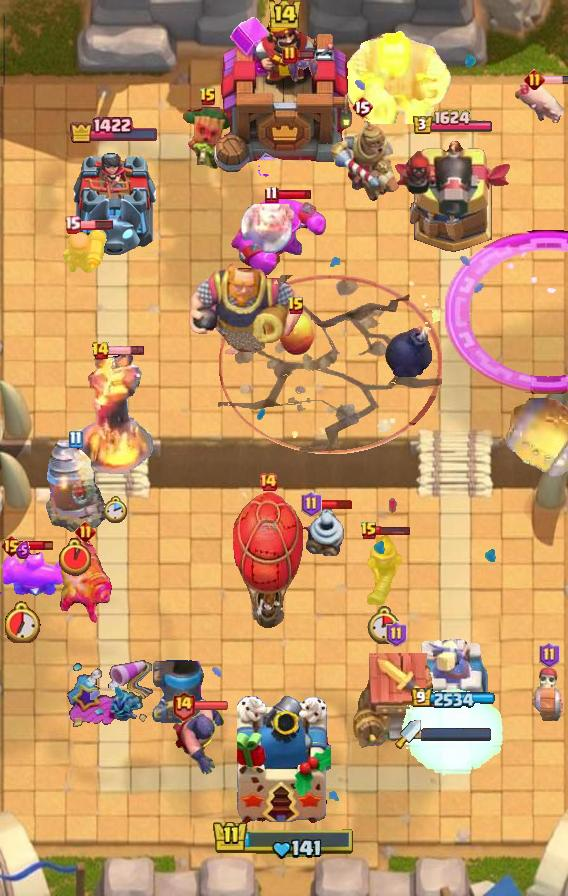baby-dragon: (384, 306, 444, 378)
bar: (416, 637, 490, 731)
barbarian-barrel: (284, 54, 322, 82)
bomb-tower: (362, 531, 404, 605)
cannon-cart: (232, 492, 304, 632)
clock: (212, 819, 356, 861)
clone: (229, 194, 331, 278)
dirt: (502, 390, 568, 482)
electro-dragon: (77, 350, 155, 478)
electro-spirit: (16, 541, 30, 559)
elixir: (5, 601, 41, 643), (367, 606, 400, 644), (59, 538, 91, 576), (104, 496, 128, 524)
emote: (18, 539, 53, 553), (107, 344, 145, 356), (78, 219, 114, 231), (319, 498, 353, 510), (276, 189, 313, 200), (376, 525, 412, 536), (193, 700, 229, 711), (542, 75, 568, 85), (296, 49, 315, 60)
giant: (512, 79, 568, 129)
giant-skeleton: (188, 258, 304, 358), (342, 30, 452, 124)
goblin-barrel: (179, 107, 237, 173)
goblin-drill: (303, 502, 351, 556)
guard: (218, 274, 442, 454)
hog: (277, 309, 315, 357)
king-tower: (211, 7, 357, 181), (237, 696, 331, 826)
king-tower-bar: (421, 727, 493, 741)
knight: (524, 666, 568, 724)
knight-evolution: (445, 230, 567, 394)
magic-archer: (45, 441, 105, 533)
mega-knight: (400, 687, 506, 780)
mega-minion: (57, 534, 113, 626)
monk: (171, 702, 227, 776)
musketeer: (152, 660, 212, 724)
queen-tower: (71, 144, 157, 255)
ram-rider: (322, 120, 402, 204)
royal-giant: (239, 204, 295, 254)
selected: (68, 116, 159, 144), (412, 110, 494, 136), (412, 688, 497, 710)
sparky: (353, 652, 439, 750)
text: (172, 690, 197, 721), (1, 534, 24, 558), (302, 491, 323, 517), (385, 621, 406, 647), (540, 642, 561, 668), (351, 95, 373, 119), (75, 521, 96, 543), (524, 70, 545, 91), (258, 472, 278, 492), (90, 341, 109, 361), (199, 87, 217, 107), (287, 296, 305, 316), (360, 521, 378, 541), (282, 45, 298, 65), (64, 215, 81, 233), (264, 185, 279, 203), (69, 430, 83, 449)
tombstone: (61, 223, 107, 279)
tornado: (0, 549, 72, 599)
tower-bar: (392, 138, 514, 256)
